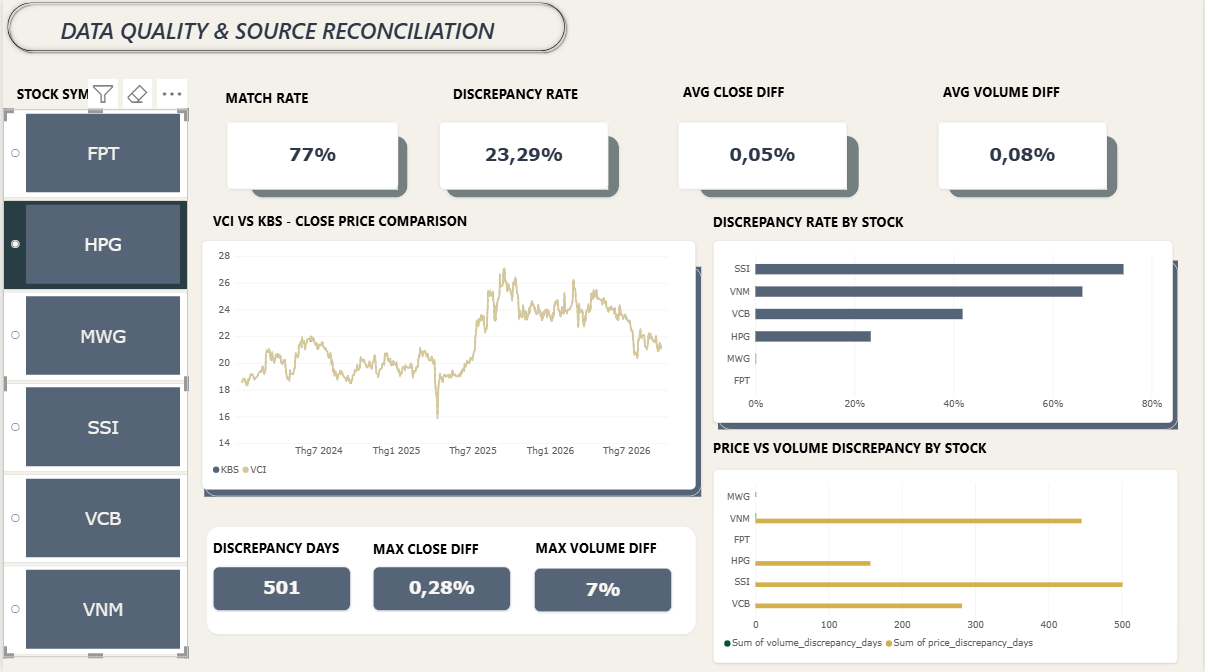

The dashboard page shown, as its layout file describes it:
{"tool":"powerbi","page":{"name":"Data Quality","canvas":[1920,1080],"ordinal":1},"visuals":[{"type":"shape","box":[0,-0.2,906,92],"z":0,"group":"g1"},{"type":"shape","box":[326,846,782,172],"z":0},{"type":"group","id":"g1","title":"Group 1","box":[0,-0.2,906,92],"z":1000},{"type":"shape","box":[44,26.1,790,50],"z":2000,"group":"g1"},{"type":"group","id":"g2","title":"Group 13","box":[322.1,430.7,796.3,367.4],"z":2000},{"type":"shape","box":[396,220,252,100],"z":3000},{"type":"group","id":"g3","title":"Group 14","box":[1144,420,736,270],"z":4000},{"type":"card","fields":{"Values":["public vw_stock_quality_summary.Max Volume Diff %"]},"box":[850,912,220,70],"z":5000},{"type":"shape","box":[22.6,117.3,256.7,70],"z":6000},{"type":"shape","box":[356.1,123.5,256.7,70],"z":7000},{"type":"shape","box":[720.4,117.3,256.7,70],"z":8000},{"type":"shape","box":[1088.9,113.2,256.7,70],"z":9000},{"type":"card","fields":{"Values":["public vw_stock_quality_summary.Match Rate %"]},"box":[358,198,274.4,108.4],"z":9000,"group":"g4"},{"type":"card","fields":{"Values":["public vw_stock_quality_summary.Discrepancy Rate %"]},"box":[698,198,270.4,108.4],"z":9000,"group":"g5"},{"type":"card","fields":{"Values":["public vw_stock_quality_summary.Avg Close Diff %"]},"box":[1080,198,270,108],"z":9000,"group":"g7"},{"type":"card","fields":{"Values":["public vw_stock_quality_summary.Avg Volume Diff %"]},"box":[1496,198,270,108],"z":9000,"group":"g6"},{"type":"shape","box":[1504.6,113.2,256.7,70],"z":10000},{"type":"lineChart","fields":{"Category":["public dim_date.full_date.Variation.Date Hierarchy.Year","public dim_date.full_date.Variation.Date Hierarchy.Quarter","public dim_date.full_date.Variation.Date Hierarchy.Month","public dim_date.full_date.Variation.Date Hierarchy.Day"],"Series":["public fact_stock_price.source"],"Y":["Max(public fact_stock_price.close_price)"]},"box":[318,388,790,398],"z":11000},{"type":"shape","box":[336,320,458,70],"z":12000},{"type":"shape","box":[322.1,430.7,796.3,367.4],"z":12500,"group":"g2"},{"type":"clusteredBarChart","title":"DISCREPANCY RATE BY STOCK ","fields":{"Category":["public vw_stock_quality_summary.symbol"],"Y":["public vw_stock_quality_summary.Discrepancy Rate %"]},"box":[1136,388,736,292],"z":13000},{"type":"shape","box":[1144,420,736,270],"z":13500,"group":"g3"},{"type":"advancedSlicerVisual","fields":{"Values":["public dim_stock.symbol"]},"box":[0,178,296,876],"z":14000},{"type":"card","fields":{"Values":["public vw_stock_quality_summary.Discrepancy Days"]},"box":[336,910,220,70],"z":15000},{"type":"card","fields":{"Values":["public vw_stock_quality_summary.Max Close Diff %"]},"box":[592,910,220,70],"z":16000},{"type":"shape","box":[592,846,256.7,70],"z":17000},{"type":"shape","box":[852,844,256.7,70],"z":18000},{"type":"shape","box":[336,846,256,66],"z":19000},{"type":"shape","box":[1512,220,272,100],"z":20000},{"type":"shape","box":[1114,220,256,100],"z":21000},{"type":"shape","box":[708,220,278,100],"z":22000},{"type":"group","id":"g4","title":"Group 10","box":[358,198,274,108],"z":23000},{"type":"group","id":"g5","title":"Group 10","box":[698,198,270,108],"z":24000},{"type":"group","id":"g6","title":"Group 10","box":[1496,198,270,108],"z":25000},{"type":"group","id":"g7","title":"Group 10","box":[1080,198,270,108],"z":26000},{"type":"clusteredBarChart","fields":{"Category":["public vw_stock_quality_summary.symbol"],"Y":["Sum(public vw_stock_quality_summary.volume_discrepancy_days)","Sum(public vw_stock_quality_summary.price_discrepancy_days)"]},"box":[1136,754,744,310],"z":27000},{"type":"shape","box":[1136,684,470,70],"z":28000},{"type":"shape","box":[1136,322,360,70],"z":29000}]}

Visuals, with their boxes in screenshot pixels (x1, y1, x2, y2), scaled from the page's 1920x1080 canvas onto the 1205x672 screenshot:
shape: 0,0,569,57
shape: 205,526,695,633
"Group 1" group: 0,0,569,57
shape: 28,16,523,47
"Group 13" group: 202,268,702,497
shape: 249,137,407,199
"Group 14" group: 718,261,1180,429
card - public vw_stock_quality_summary.Max Volume Diff %: 533,567,672,611
shape: 14,73,175,117
shape: 223,77,385,120
shape: 452,73,613,117
shape: 683,70,845,114
card - public vw_stock_quality_summary.Match Rate %: 225,123,397,191
card - public vw_stock_quality_summary.Discrepancy Rate %: 438,123,608,191
card - public vw_stock_quality_summary.Avg Close Diff %: 678,123,847,190
card - public vw_stock_quality_summary.Avg Volume Diff %: 939,123,1108,190
shape: 944,70,1105,114
lineChart - public dim_date.full_date.Variation.Date Hierarchy.Year x public dim_date.full_date.Variation.Date Hierarchy.Quarter: 200,241,695,489
shape: 211,199,498,243
shape: 202,268,702,497
"DISCREPANCY RATE BY STOCK " clusteredBarChart: 713,241,1175,423
shape: 718,261,1180,429
advancedSlicerVisual - public dim_stock.symbol: 0,111,186,656
card - public vw_stock_quality_summary.Discrepancy Days: 211,566,349,610
card - public vw_stock_quality_summary.Max Close Diff %: 372,566,510,610
shape: 372,526,533,570
shape: 535,525,696,569
shape: 211,526,372,567
shape: 949,137,1120,199
shape: 699,137,860,199
shape: 444,137,619,199
"Group 10" group: 225,123,397,190
"Group 10" group: 438,123,608,190
"Group 10" group: 939,123,1108,190
"Group 10" group: 678,123,847,190
clusteredBarChart - public vw_stock_quality_summary.symbol x Sum(public vw_stock_quality_summary.volume_discrepancy_days): 713,469,1180,662
shape: 713,426,1008,469
shape: 713,200,939,244
